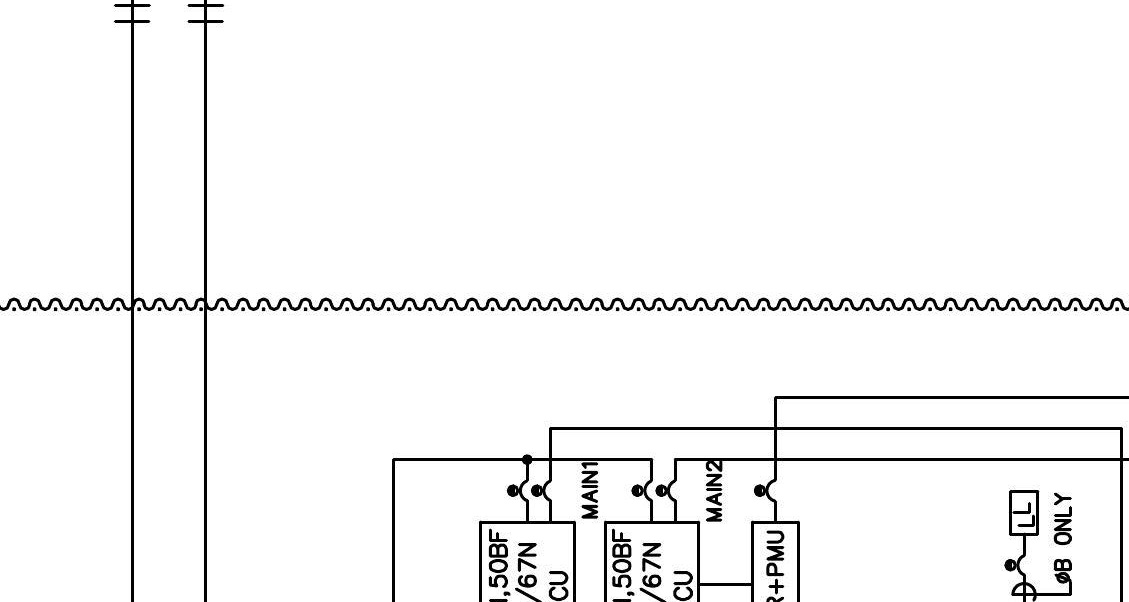115_buffer: (114, 4, 151, 23), (187, 4, 224, 23)
LL: (1008, 488, 1040, 537)
